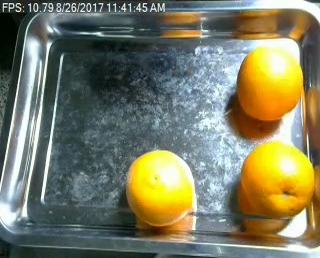Orange: (240, 140, 314, 217), (125, 148, 195, 224), (237, 44, 305, 120)
